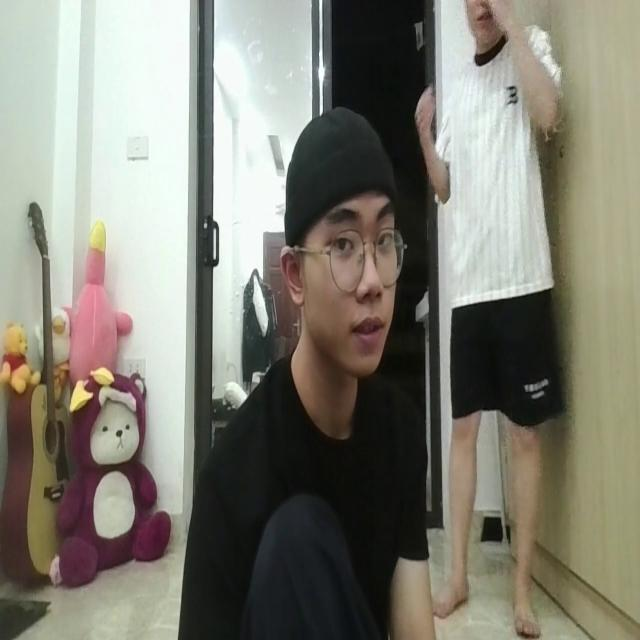extra_person: (418, 0, 574, 640)
student: (176, 99, 430, 640)
